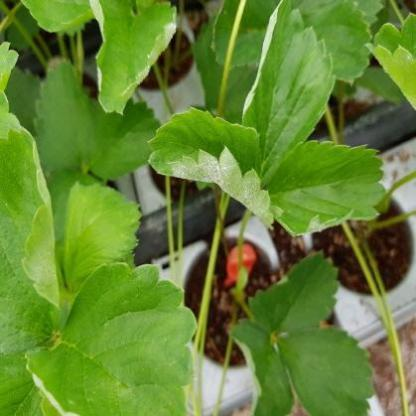Strawberry_Powdery_Mildew_Leaf: (24, 263, 198, 415), (242, 0, 336, 183), (145, 105, 275, 230), (262, 140, 389, 238), (88, 0, 177, 118)
